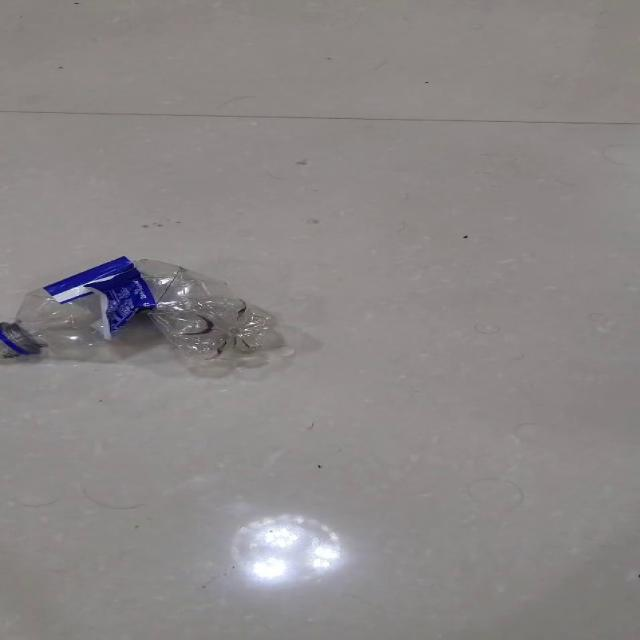plastic: (1, 255, 288, 368)
